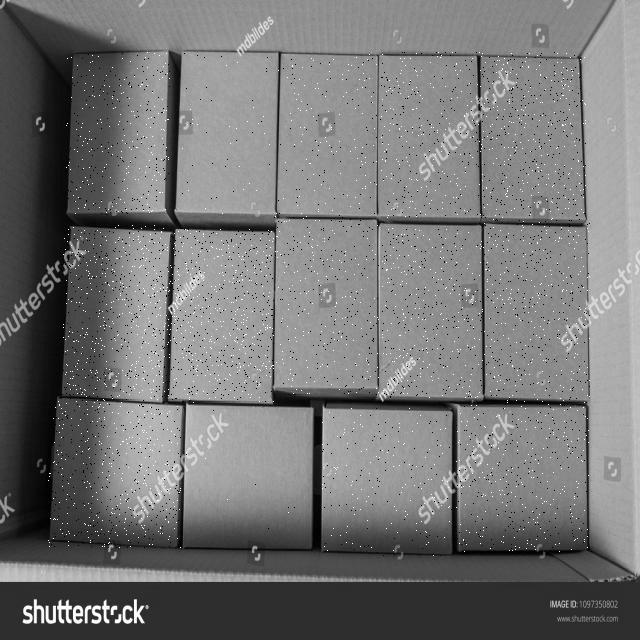BoxFace: (48, 400, 182, 548), (456, 404, 589, 552), (483, 224, 590, 404), (322, 408, 452, 556), (62, 226, 168, 402), (184, 402, 312, 547), (275, 218, 379, 396), (168, 230, 274, 403), (480, 52, 586, 223), (382, 228, 484, 398), (66, 52, 170, 216), (177, 50, 277, 220), (380, 52, 482, 218), (275, 54, 378, 218)
